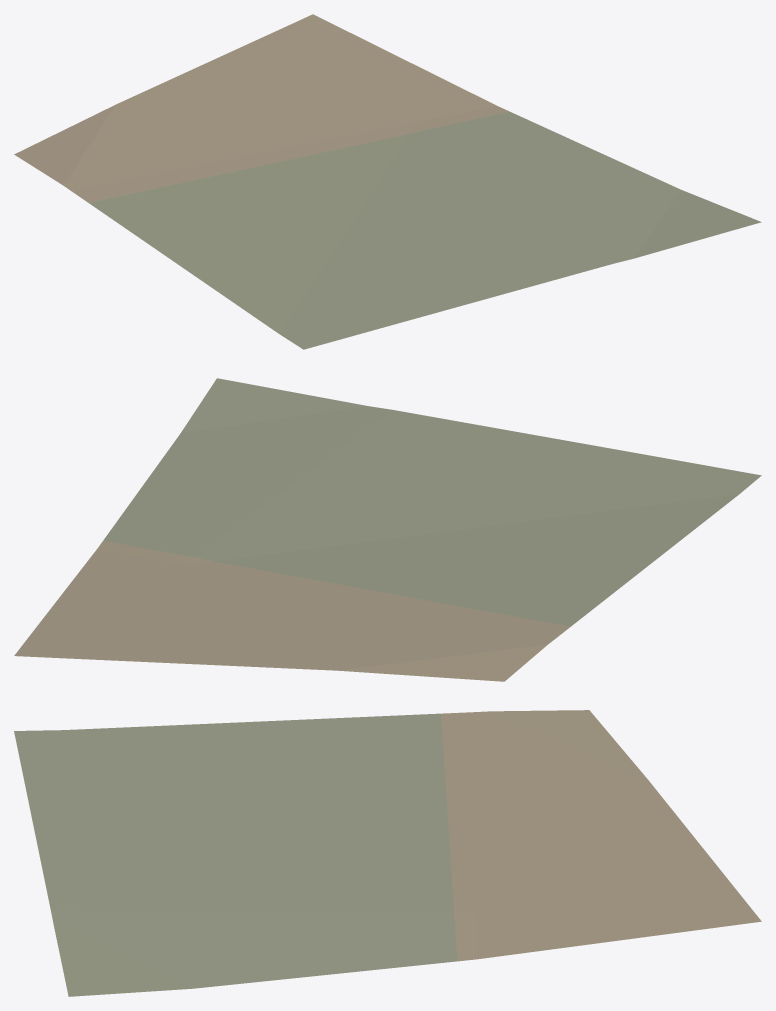
The model's file is farm_14_14_soil.glb.
3 views of the same model, one above another, from view 1: azimuth 30°, elevation 25°; view 2: azimuth 150°, elevation 25°; view 3: azimuth 270°, elevation 25° (orthographic). The views are drawn at different scales.
Parts seen in each view (by area): view 1: geometry_0; view 2: geometry_0; view 3: geometry_0.
Boxes of the visible parts, x1,y1,x2,y2 form: geometry_0: [14, 14, 761, 349]; geometry_0: [14, 378, 761, 681]; geometry_0: [14, 710, 761, 996].
Size of the model in its own units: 113 by 4.45 by 133.
